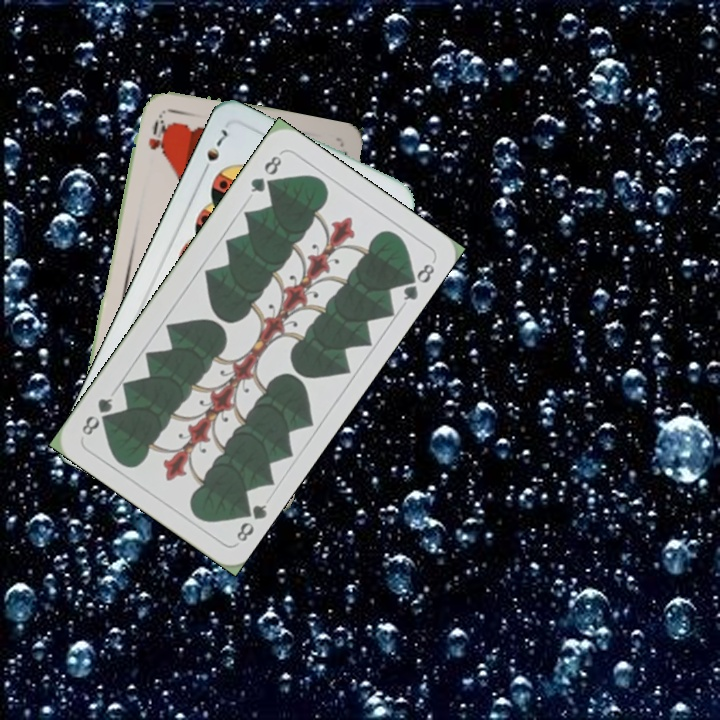G8: (232, 498, 270, 545), (246, 151, 285, 195)
HO: (144, 111, 170, 157)
S7: (197, 125, 231, 178)
